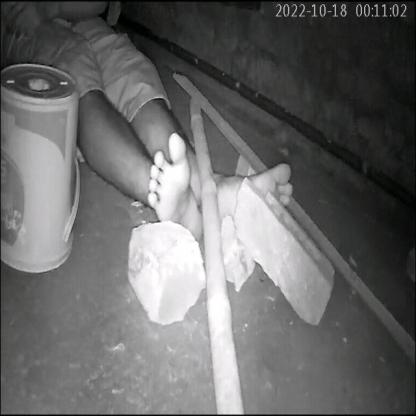leg: (78, 99, 210, 255), (174, 112, 296, 216)
